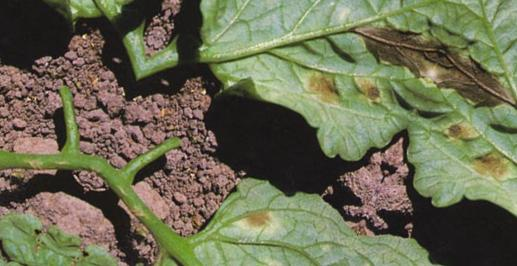Tomato mold leaf: (151, 0, 488, 185), (117, 147, 366, 266)
